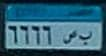6: (42, 25, 53, 45), (31, 24, 41, 45), (7, 25, 18, 44), (20, 24, 29, 45)
baa: (79, 29, 93, 47)
saad: (62, 28, 78, 45)
